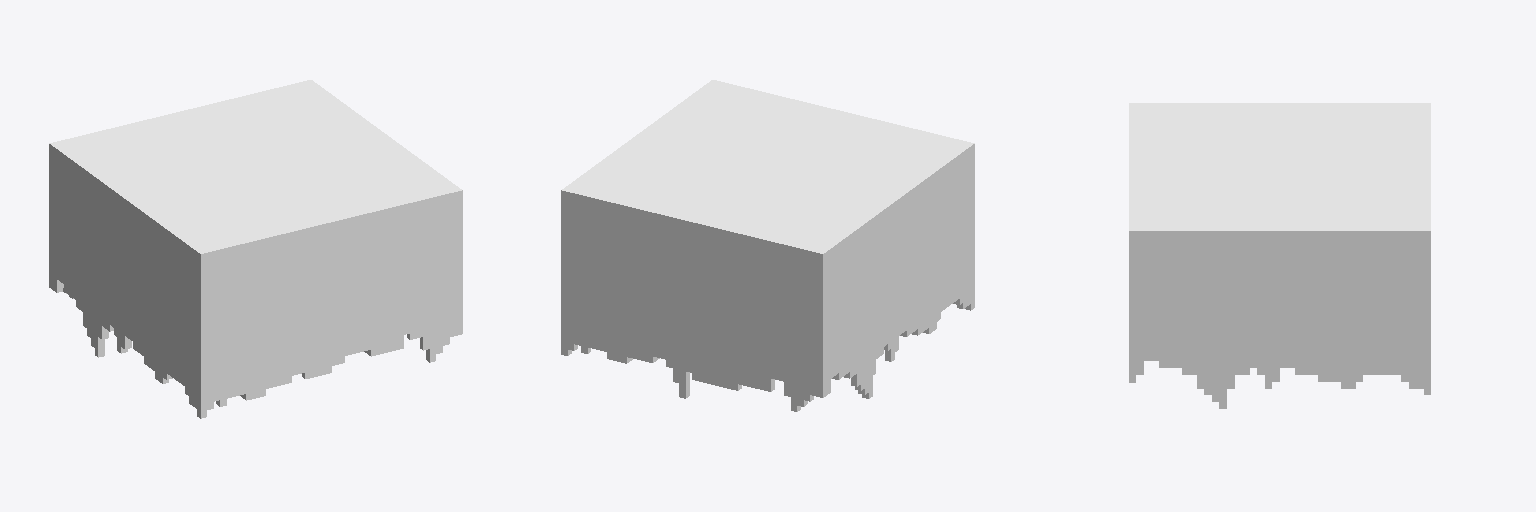
File: MainPlatform.obj
The picture shows the model from 3 angles: view 1: azimuth 30°, elevation 25°; view 2: azimuth 150°, elevation 25°; view 3: azimuth 270°, elevation 25°; orthographic projection.
Bounding box in the file's own units: 40 × 26 × 40.